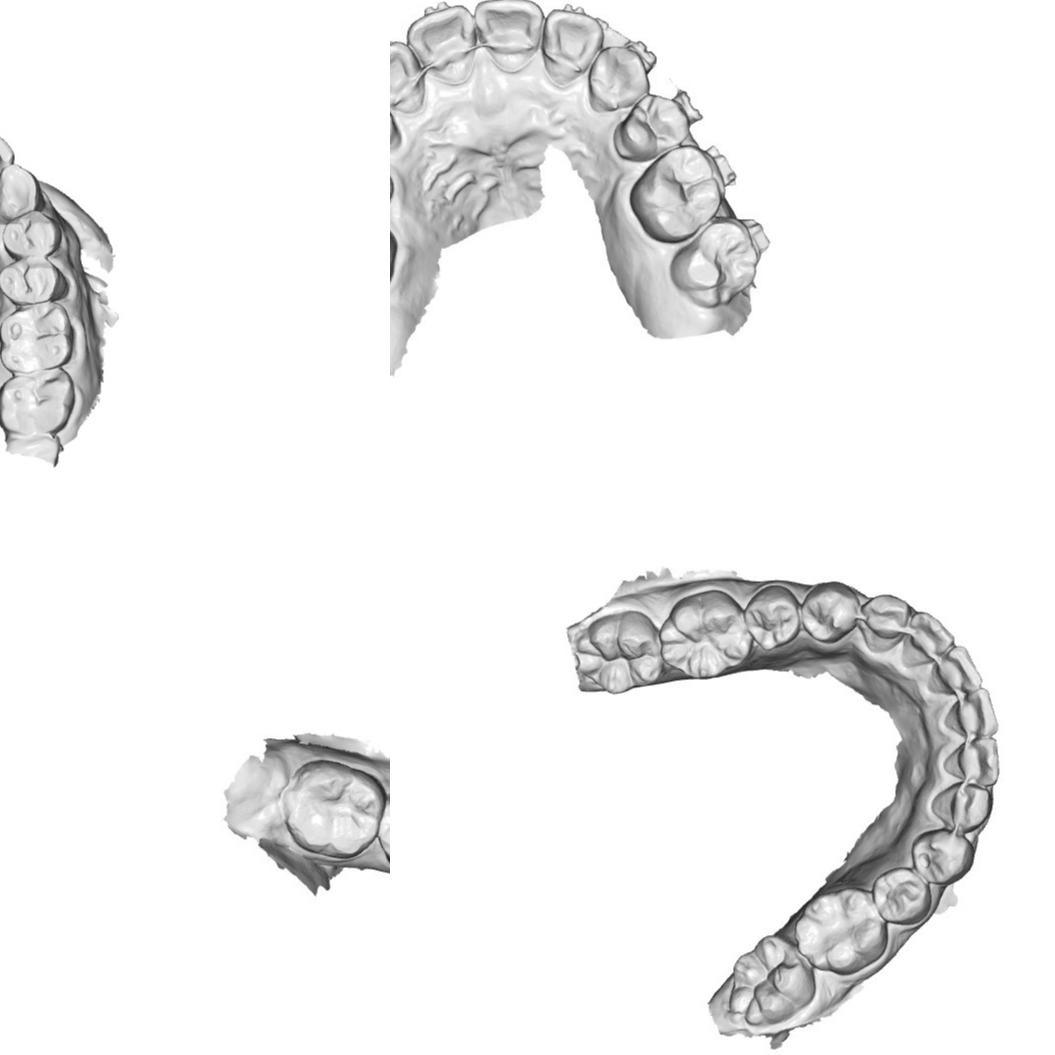canine: (586, 41, 650, 114), (859, 592, 914, 654), (928, 781, 992, 833), (0, 161, 40, 223)
incisor: (413, 5, 480, 83), (481, 0, 542, 71), (898, 609, 957, 669), (942, 732, 1002, 787), (547, 13, 597, 77), (926, 643, 984, 696), (942, 686, 999, 735), (390, 43, 422, 111), (0, 129, 15, 186)
molar: (282, 756, 390, 862), (626, 145, 727, 248), (657, 588, 753, 681), (725, 933, 818, 1027), (793, 886, 889, 977), (668, 222, 756, 311), (574, 608, 662, 696), (0, 302, 74, 375), (0, 366, 75, 436)
premolar: (615, 96, 691, 165), (742, 583, 801, 653), (908, 827, 976, 886), (799, 580, 861, 644), (870, 866, 932, 926), (0, 255, 69, 305), (0, 209, 62, 264)
